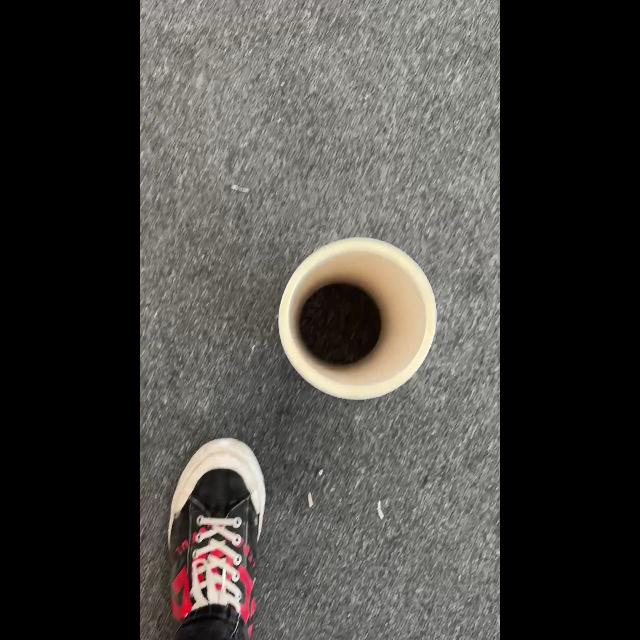CORAL: (277, 236, 437, 400)
